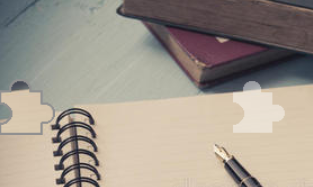target: (227, 76, 286, 138)
